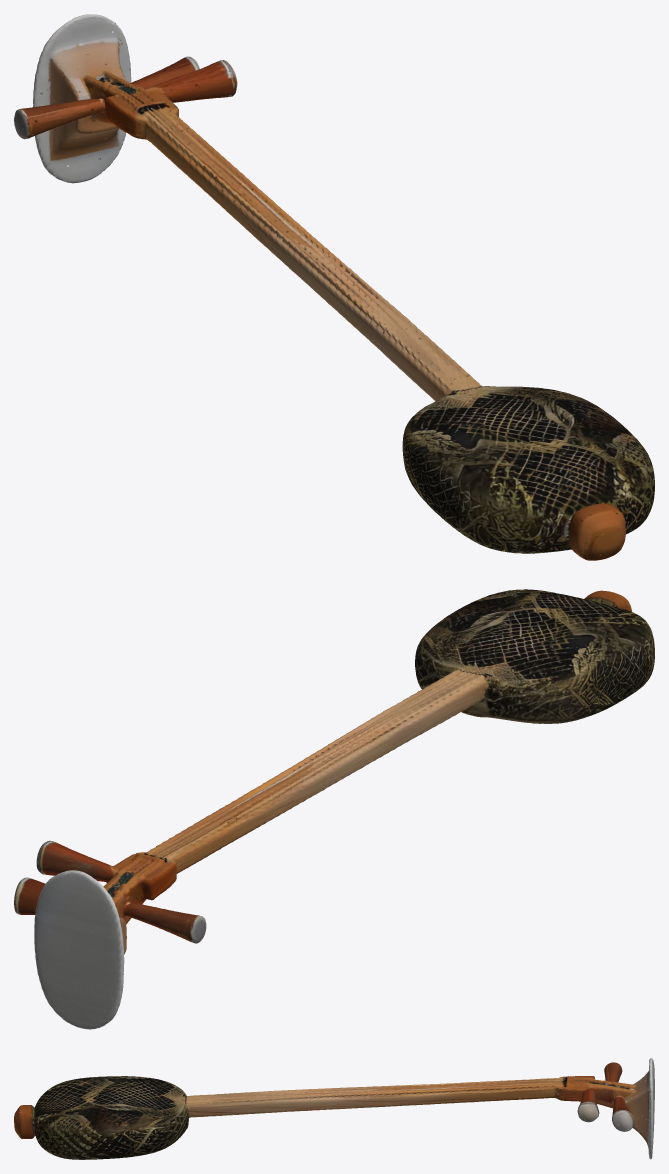
File: sanxian.glb
3 renders of one model, top to bottom at view 1: azimuth 30°, elevation 25°; view 2: azimuth 150°, elevation 25°; view 3: azimuth 270°, elevation 25°, orthographic. The views are drawn at different scales.
Parts seen in each view (by area): view 1: tripo_node_629236cb-59ac-4b22-8030-17174ba6698d; view 2: tripo_node_629236cb-59ac-4b22-8030-17174ba6698d; view 3: tripo_node_629236cb-59ac-4b22-8030-17174ba6698d.
Part boxes in pixels (bbox=[...]): tripo_node_629236cb-59ac-4b22-8030-17174ba6698d: bbox=[14, 14, 654, 560]; tripo_node_629236cb-59ac-4b22-8030-17174ba6698d: bbox=[14, 589, 654, 1029]; tripo_node_629236cb-59ac-4b22-8030-17174ba6698d: bbox=[14, 1058, 654, 1159].
Bounding box in the file's own units: 22.39 × 16.74 × 100.
1 material, 1 textured.
